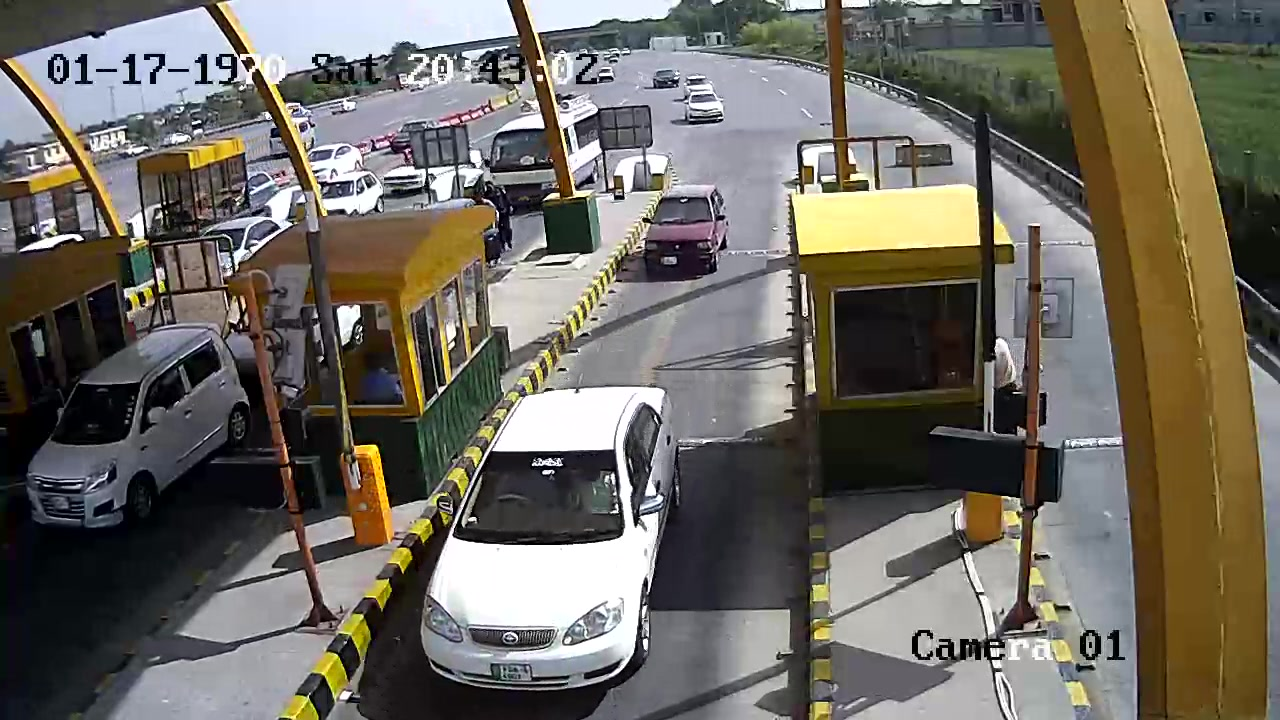F1: (420, 384, 686, 690), (636, 181, 734, 288)
